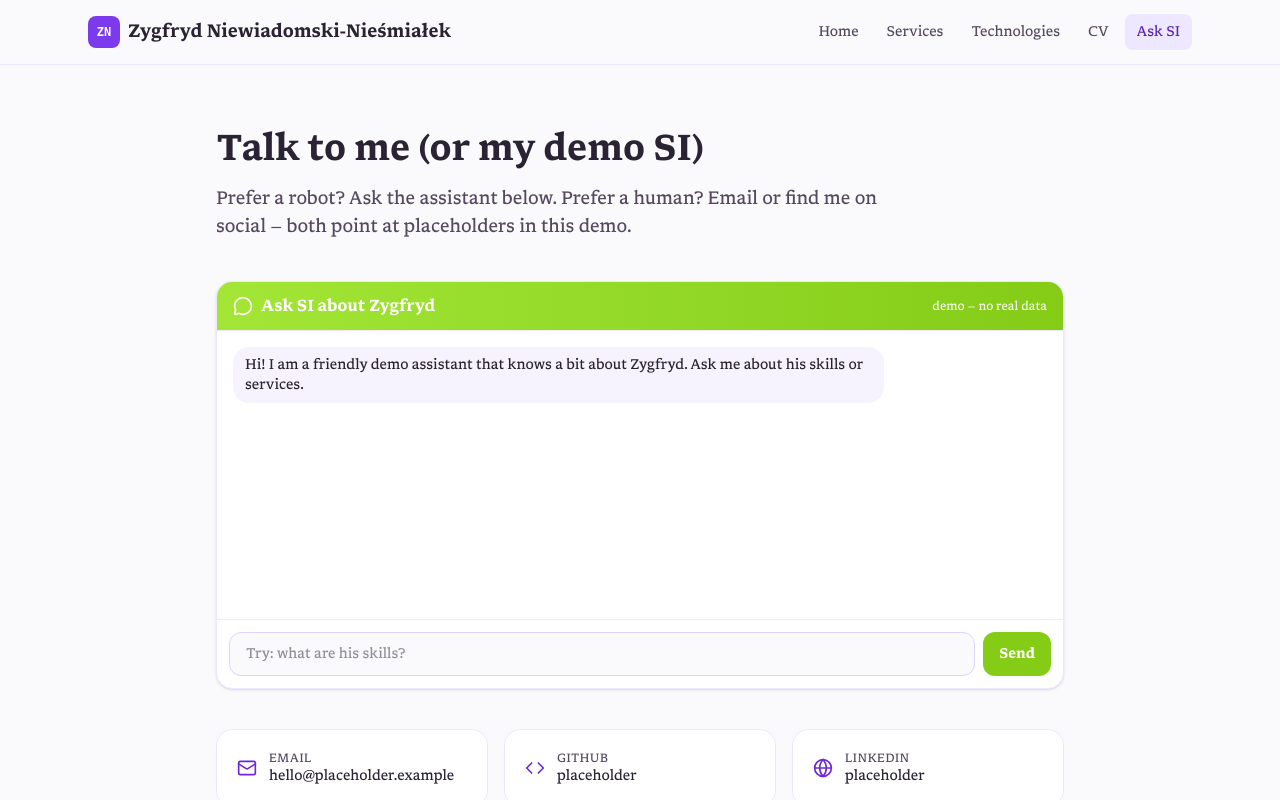
Test: demo-portfolio routes render › allows asking the dummy SI about skills
This screenshot has width=1280, height=800.
In the field named "Chat message": (602,654) [229, 632, 975, 676], type "what are his skills"
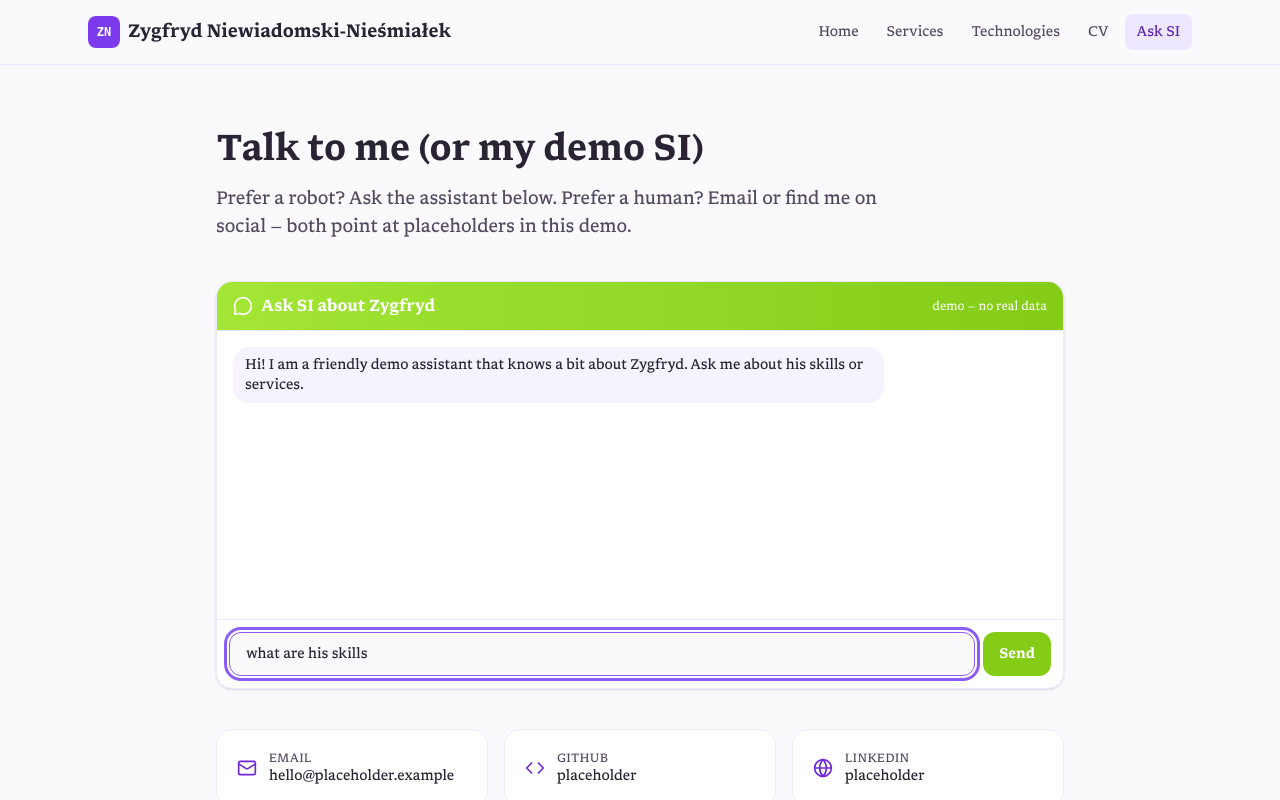
Click the button "Send": (1017,654) [983, 632, 1051, 676]
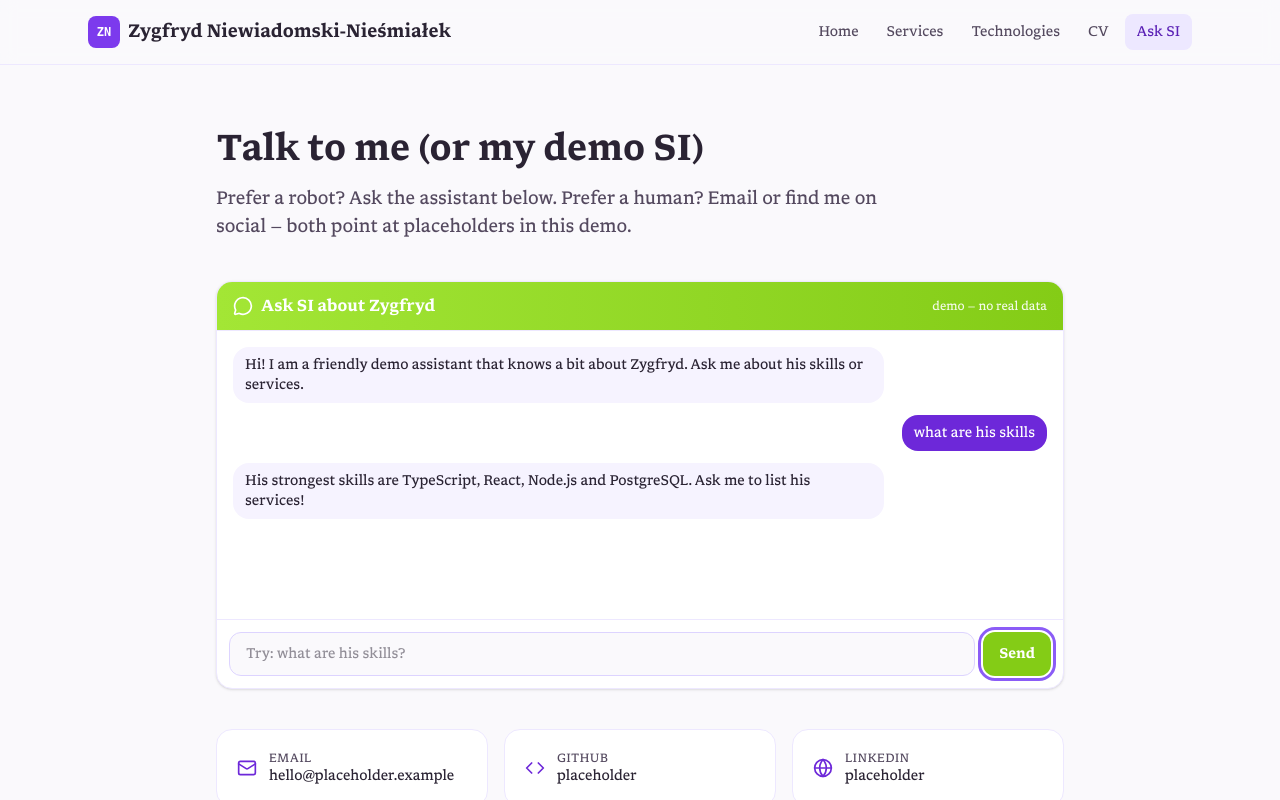
Now the text "TypeScript, React, Node.js" is shown, box [245, 474, 810, 508]
